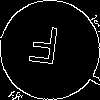F: (25, 25, 62, 74)
